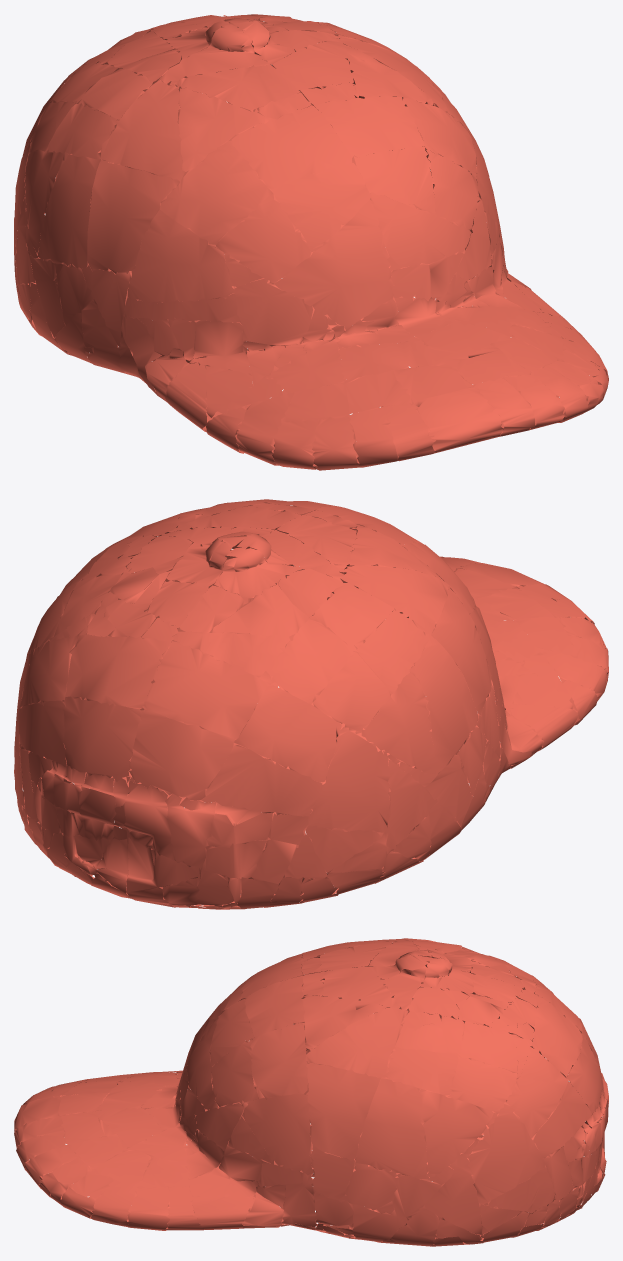
The model's file is hat_red_cap_v1.glb.
The picture shows the model from 3 angles, top to bottom: view 1: azimuth 30°, elevation 25°; view 2: azimuth 150°, elevation 25°; view 3: azimuth 270°, elevation 25°; orthographic projection. The views are drawn at different scales.
Visible parts, largest first — view 1: Mesh_0; view 2: Mesh_0; view 3: Mesh_0.
Part boxes in pixels (x1,y1,x2,y2): Mesh_0: (14,14,608,470); Mesh_0: (14,499,608,909); Mesh_0: (14,938,608,1246).
Bounding box in the file's own units: 0.24 × 0.16 × 0.378.
